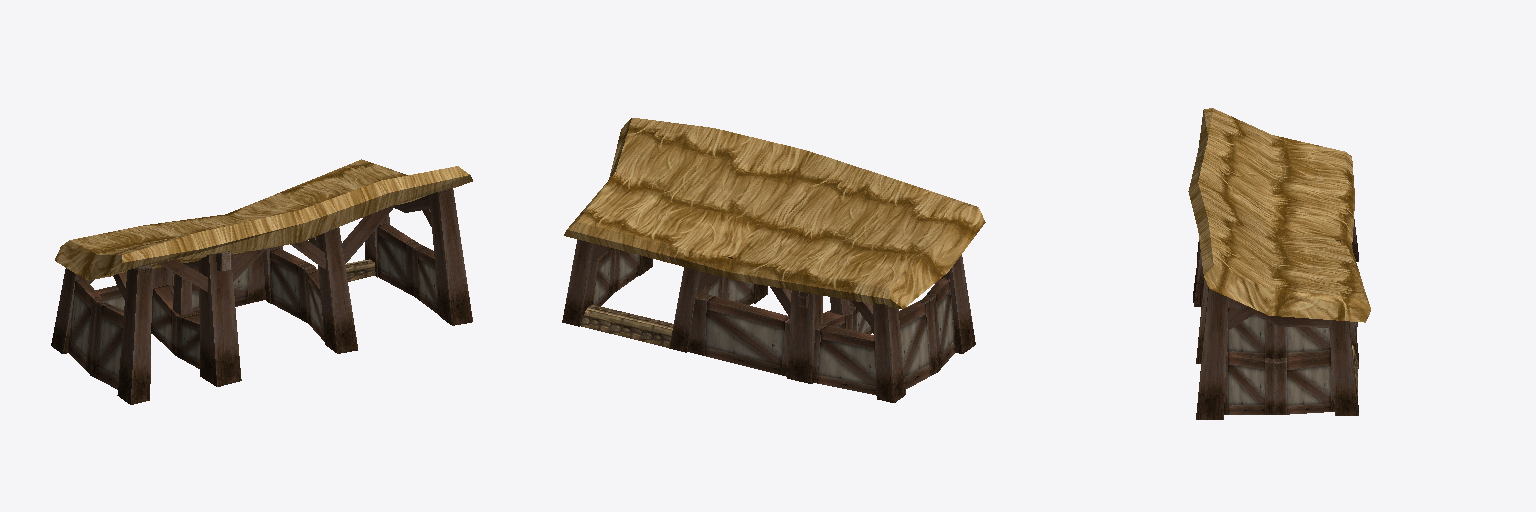
3 views of the same model, side by side, from view 1: azimuth 30°, elevation 25°; view 2: azimuth 150°, elevation 25°; view 3: azimuth 270°, elevation 25° (orthographic).
Visible parts, largest first — view 1: stable; view 2: stable; view 3: stable.
Part boxes in pixels (bbox=[...]): stable: bbox=[51, 159, 472, 404]; stable: bbox=[562, 118, 985, 402]; stable: bbox=[1188, 108, 1370, 419].
Size of the model in its own units: 15.99 by 6.7 by 6.97.
4 materials, 4 textured.